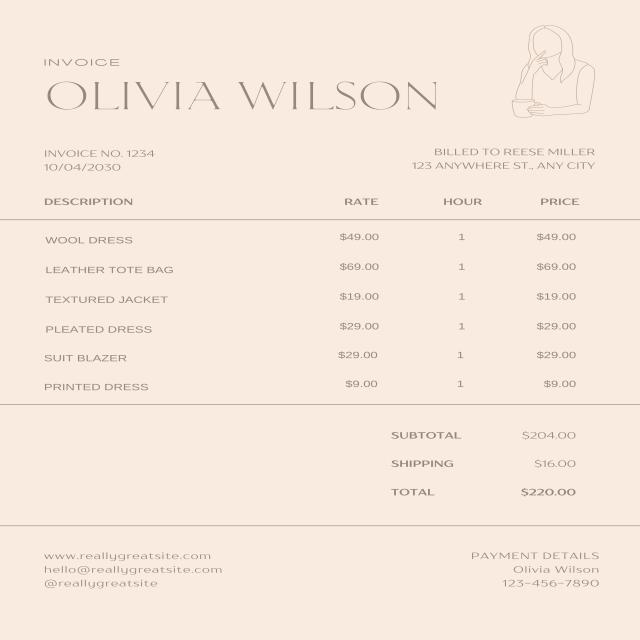ROI: (32, 188, 595, 401), (36, 52, 444, 117), (383, 421, 584, 506), (40, 548, 227, 594), (467, 545, 610, 593), (408, 141, 601, 174), (40, 140, 160, 179)
